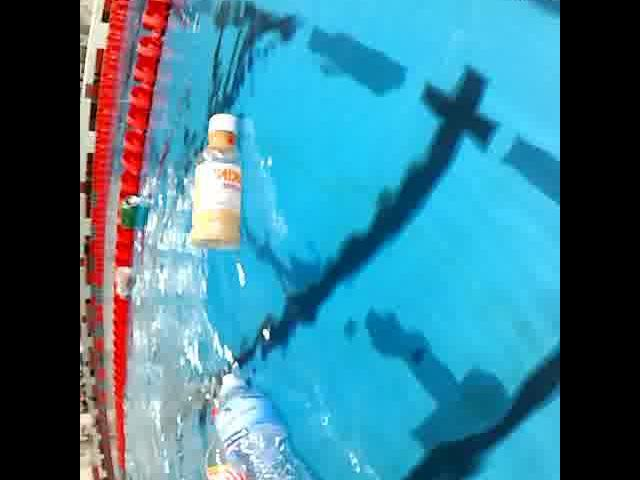Bottle: (213, 368, 359, 480), (184, 94, 248, 262), (196, 422, 278, 480), (116, 254, 136, 302)
Can: (118, 188, 144, 237)
